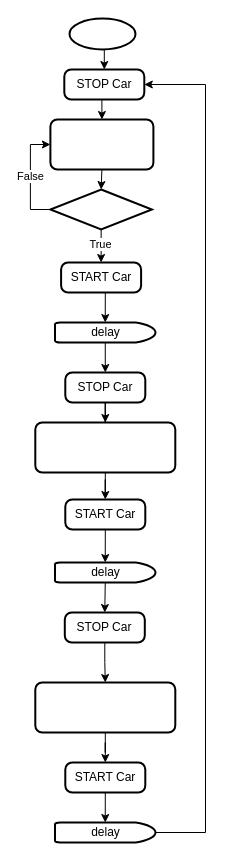
The diagram is 232 pixels wide and 860 high, and some of its shapes have lost their labels. Each missing label, with the centre of its shape:
"Move stepper clockwise" goes at point (101, 144).
"Move stepper counter clockwise nSteps (center)" goes at point (105, 447).
"Move stepper counter clockwise nSteps (left)" goes at point (105, 707).
"Power ON" goes at point (102, 33).
"Sensor = LOW" goes at point (100, 209).
